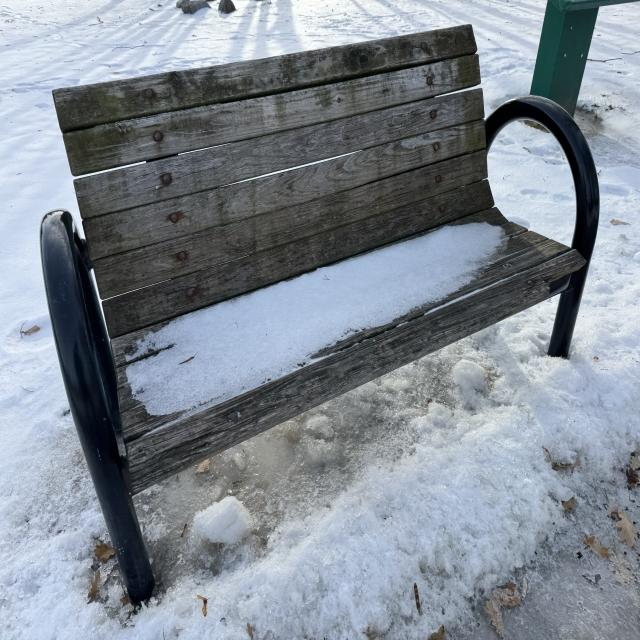Bench: (39, 75, 600, 596)
